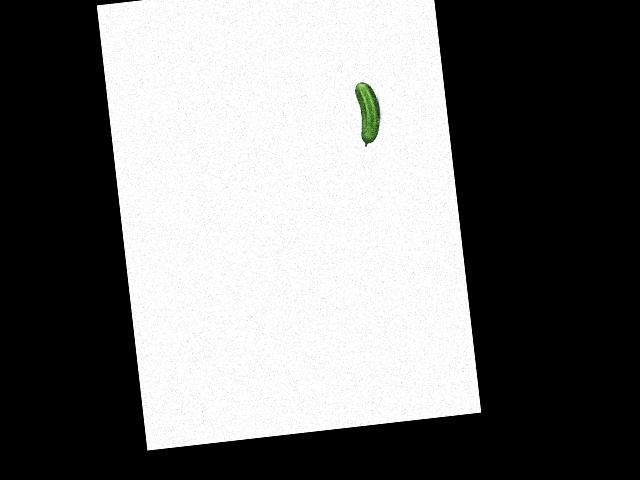cucumber: (354, 80, 383, 146)
